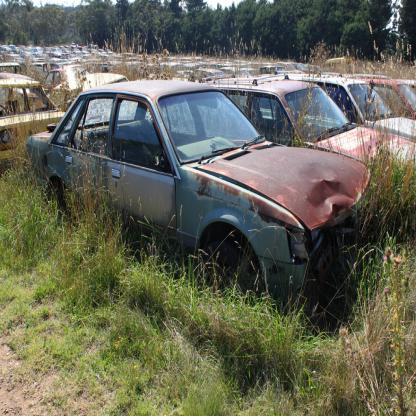Car: (0, 43, 416, 316)
